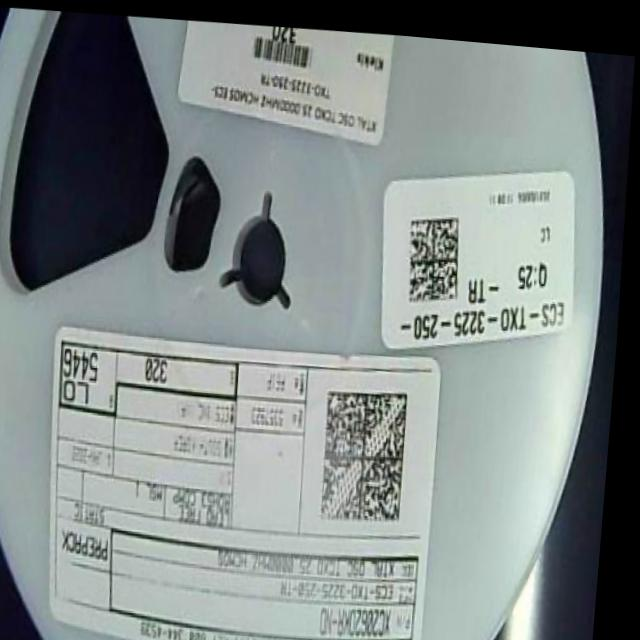datamatrix: (323, 381, 418, 520), (405, 205, 469, 300)
